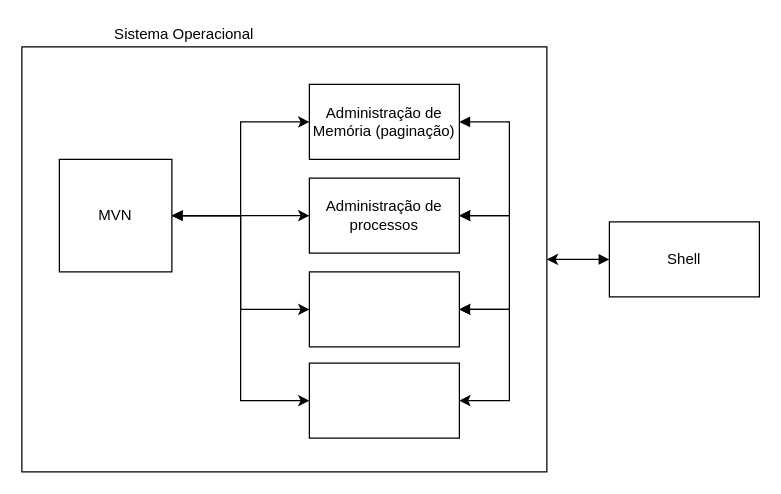
The diagram is 781 pixels wide and 494 high, and some of its shapes have lost their labels. The shapes that lost their labels are listed below. From the top down, each one's box as (x1, y1, x2, y2) in pixels, then its label:
(308, 271, 459, 347): Multiprogramação
(308, 362, 459, 438): Administração de dispositivos
